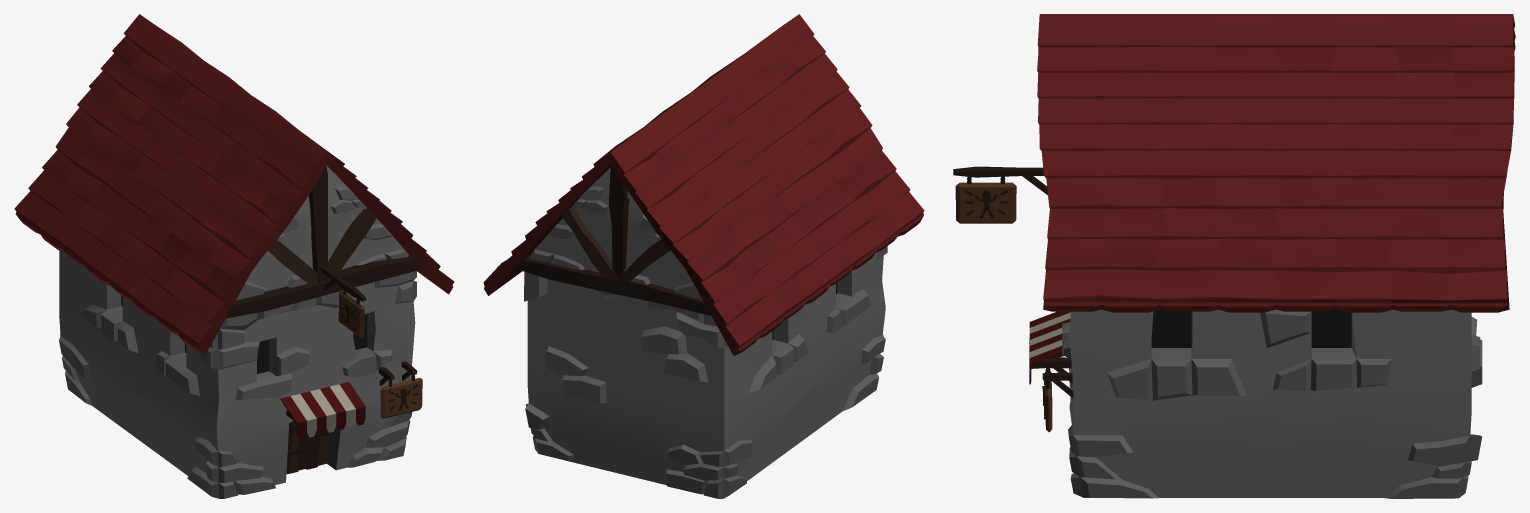
The model's file is Shop03.fbx.
The picture shows the model from 3 angles, left to right: view 1: azimuth 30°, elevation 25°; view 2: azimuth 150°, elevation 25°; view 3: azimuth 270°, elevation 25°; orthographic projection. The views are drawn at different scales.
Visible parts, largest first — view 1: BuildingShop03; view 2: BuildingShop03; view 3: BuildingShop03.
Part boxes in pixels (left/top/right/bottom): BuildingShop03: left=14, top=14, right=454, bottom=498; BuildingShop03: left=483, top=14, right=924, bottom=498; BuildingShop03: left=953, top=14, right=1515, bottom=498.
Size of the model in its own units: 2.73 by 3.39 by 4.04.
